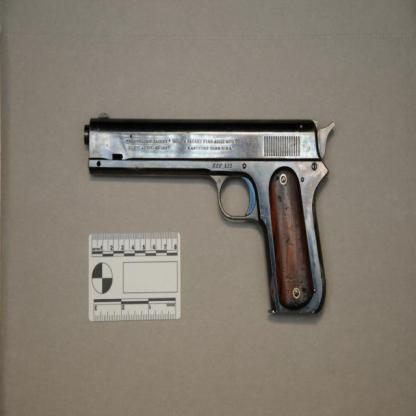weapon: (82, 112, 337, 317)
